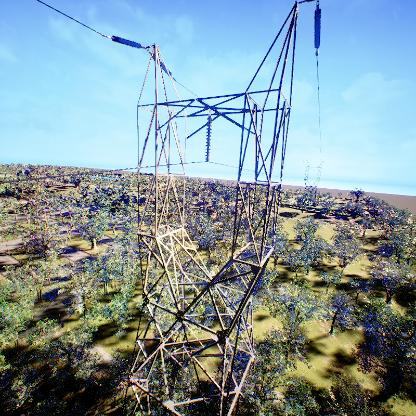tower: (107, 4, 326, 416)
